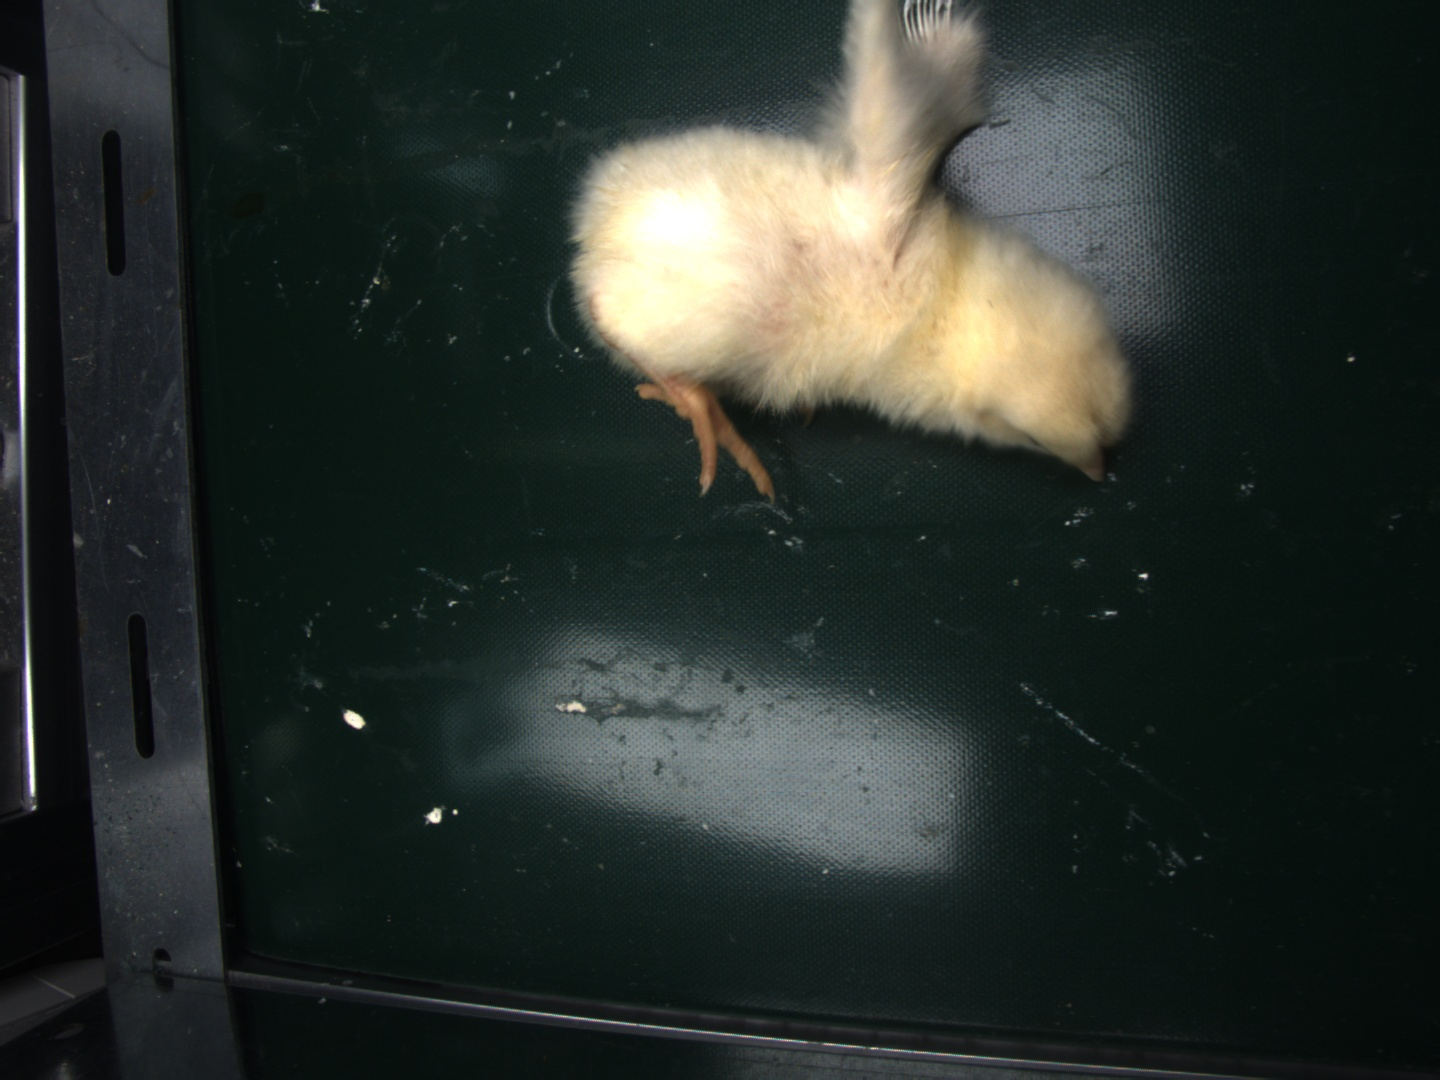male: (903, 2, 958, 41)
